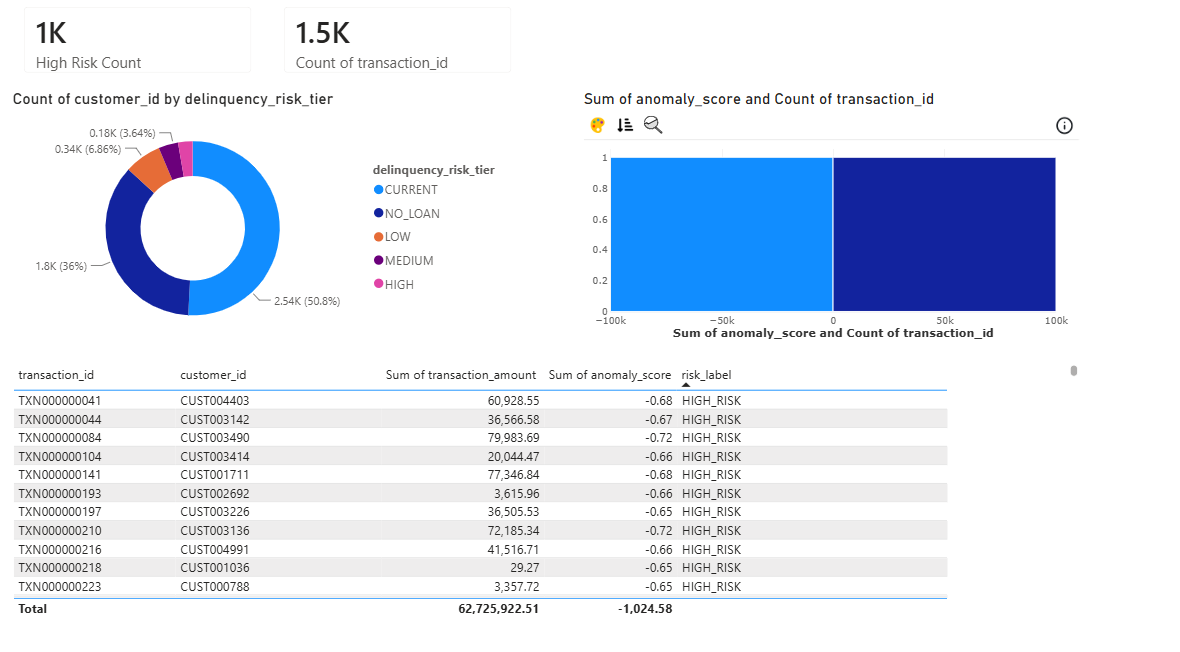

The dashboard page shown, as its layout file describes it:
{"tool":"powerbi","page":{"name":"Risk_Flags","canvas":[1280,720],"ordinal":2},"visuals":[{"type":"cardVisual","fields":{"Data":["customer_360.High Risk Count"]},"box":[10.2,0,279.6,106],"z":0},{"type":"cardVisual","fields":{"Data":["Count(transaction_risk_scores.transaction_id)"]},"box":[289.8,0,279.6,106],"z":1000},{"type":"donutChart","fields":{"Y":["Count(transaction_risk_scores.customer_id)"],"Category":["customer_360.delinquency_risk_tier"]},"box":[10.2,106,542.6,280.9],"z":2000},{"type":"histogramF963F133BA02A0B35D286F09F80E9C78","fields":{"col_2":["Sum(transaction_risk_scores.anomaly_score)"],"col_4":["transaction_risk_scores.transaction_id"]},"box":[624.3,106,542.6,280.9],"z":3000},{"type":"tableEx","fields":{"Values":["transaction_risk_scores.transaction_id","customer_360.customer_id","Sum(transaction_risk_scores.transaction_amount)","Sum(transaction_risk_scores.anomaly_score)","transaction_risk_scores.risk_label"]},"box":[10.2,397,1156.6,280.9],"z":4000}]}

Visuals, with their boxes in screenshot pixels (x1, y1, x2, y2), scaled from the page's 1280x720 canvas onto the 1180x652 screenshot:
cardVisual - customer_360.High Risk Count: <bbox>9, 0, 267, 96</bbox>
cardVisual - Count(transaction_risk_scores.transaction_id): <bbox>267, 0, 525, 96</bbox>
donutChart - Count(transaction_risk_scores.customer_id) x customer_360.delinquency_risk_tier: <bbox>9, 96, 510, 350</bbox>
histogramF963F133BA02A0B35D286F09F80E9C78 - Sum(transaction_risk_scores.anomaly_score) x transaction_risk_scores.transaction_id: <bbox>576, 96, 1076, 350</bbox>
tableEx - transaction_risk_scores.transaction_id x customer_360.customer_id: <bbox>9, 360, 1076, 614</bbox>
